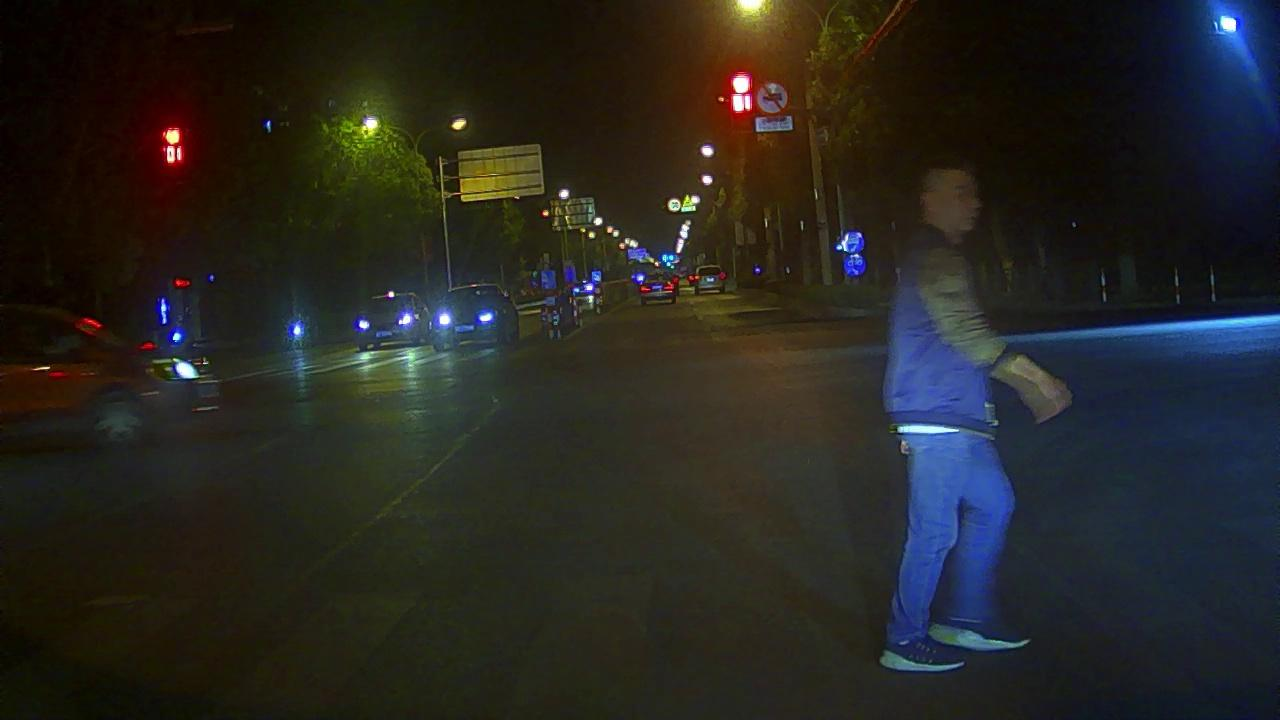traffic_light: (156, 121, 188, 171), (727, 68, 755, 119)
